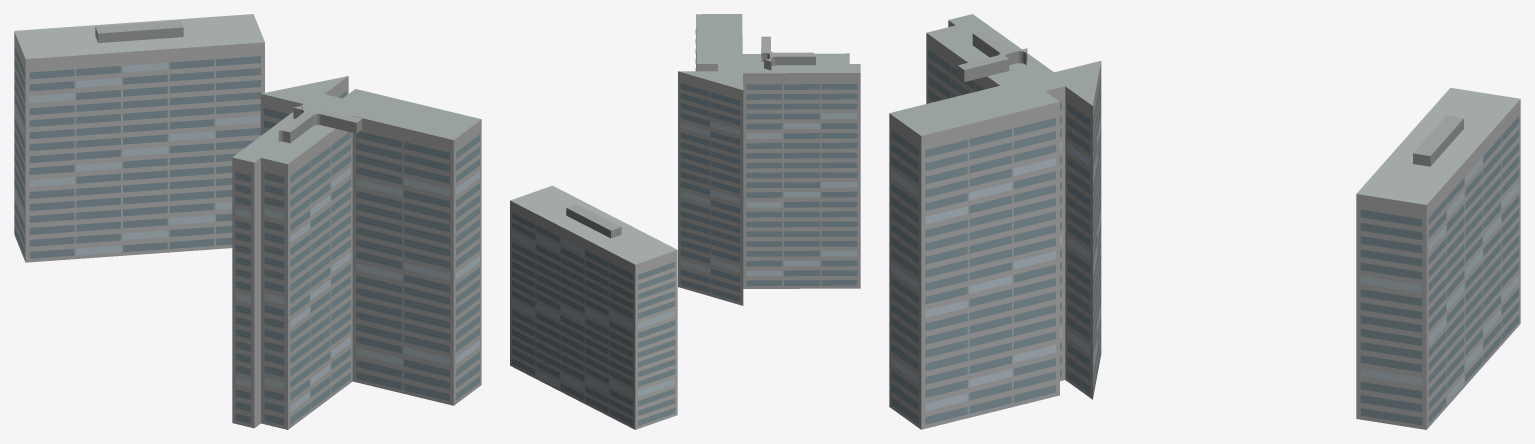
Rendered from apt-a11008001.glb.
The picture shows the model from 3 angles, left to right: view 1: azimuth 30°, elevation 25°; view 2: azimuth 150°, elevation 25°; view 3: azimuth 270°, elevation 25°; orthographic projection. The views are drawn at different scales.
Visible parts, largest first — view 1: apt-a11008001; view 2: apt-a11008001; view 3: apt-a11008001.
Part boxes in pixels (x1,y1,x2,y2): apt-a11008001: (14,14,481,429); apt-a11008001: (510,14,860,429); apt-a11008001: (889,14,1520,429).
Size of the model in its own units: 52.33 by 61 by 114.
